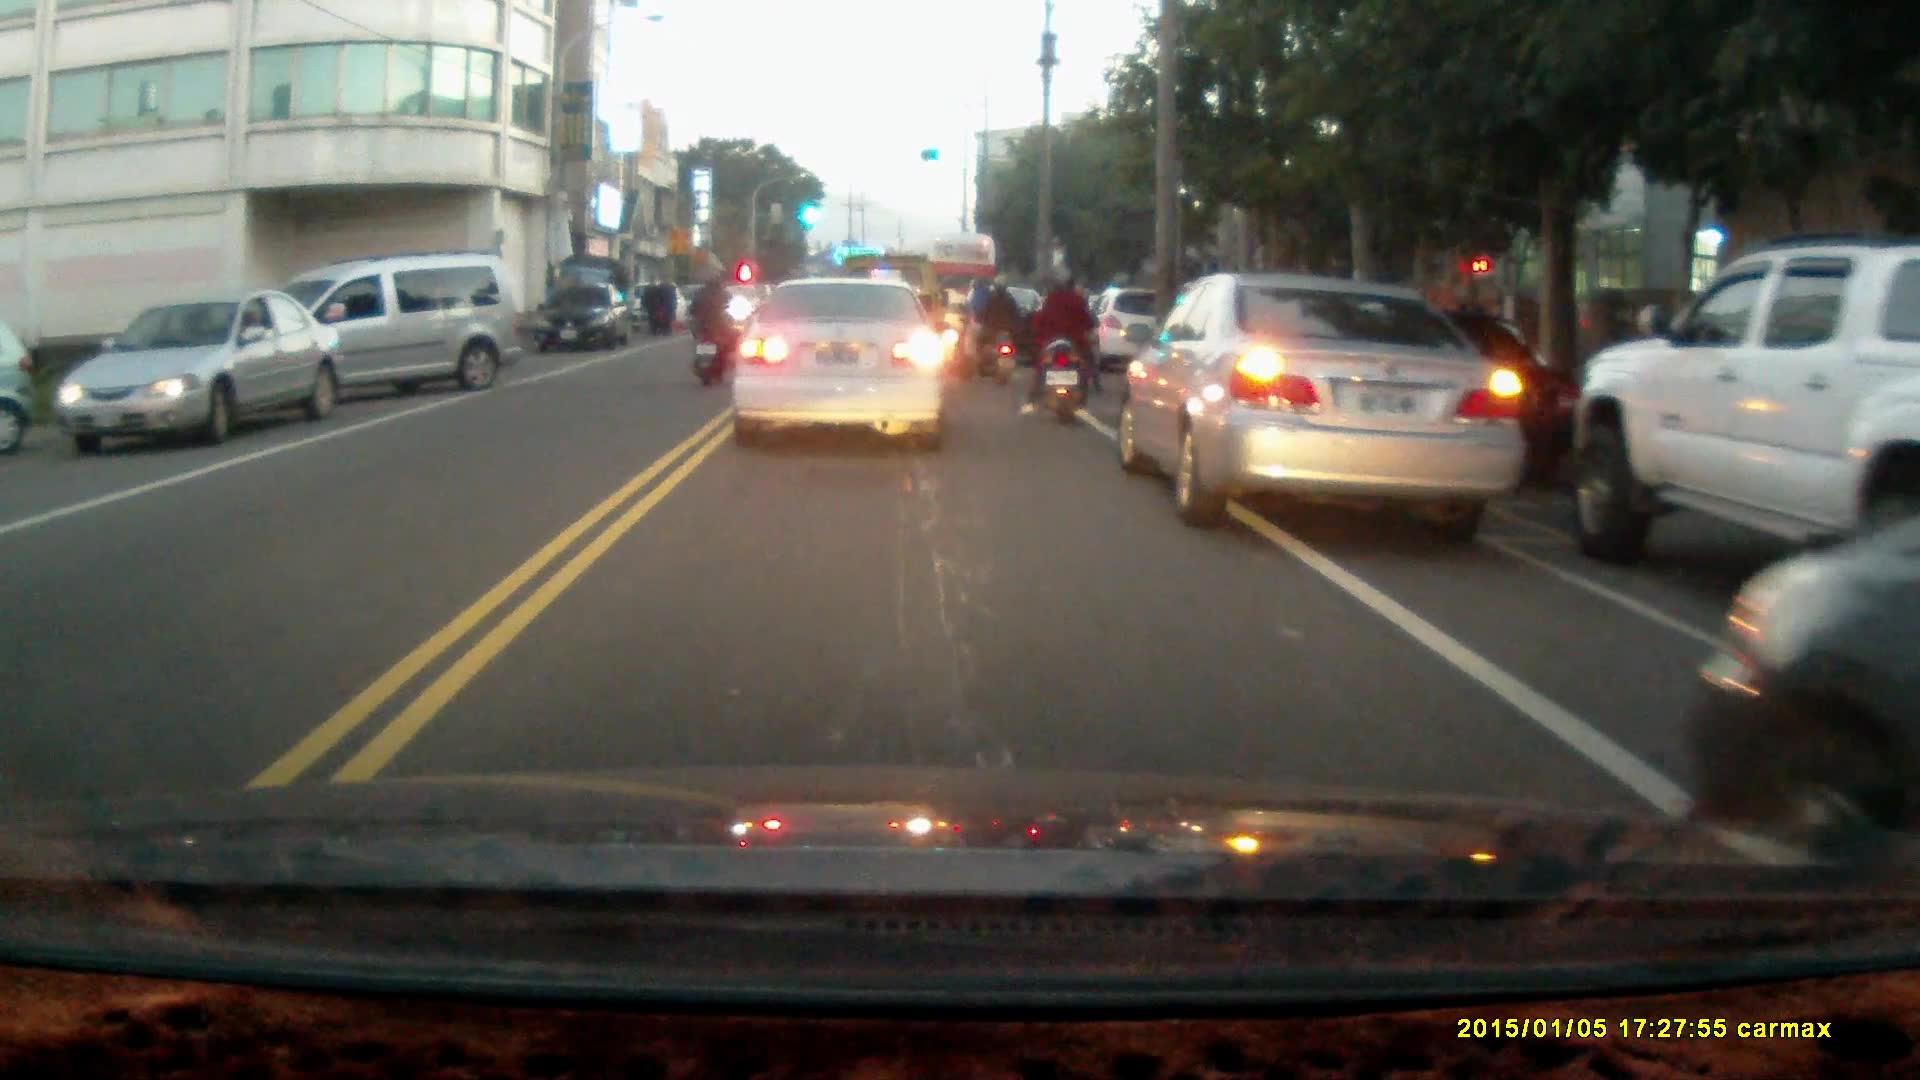pedestrian: (639, 272, 664, 337), (655, 274, 676, 333)
rider: (1019, 266, 1103, 427), (956, 269, 1023, 385), (688, 276, 735, 387)
vehicle: (1563, 238, 1920, 577), (1114, 268, 1521, 532), (1688, 513, 1920, 852), (226, 254, 528, 419), (63, 293, 342, 450), (729, 276, 951, 458), (535, 281, 633, 354), (1, 296, 37, 457)
